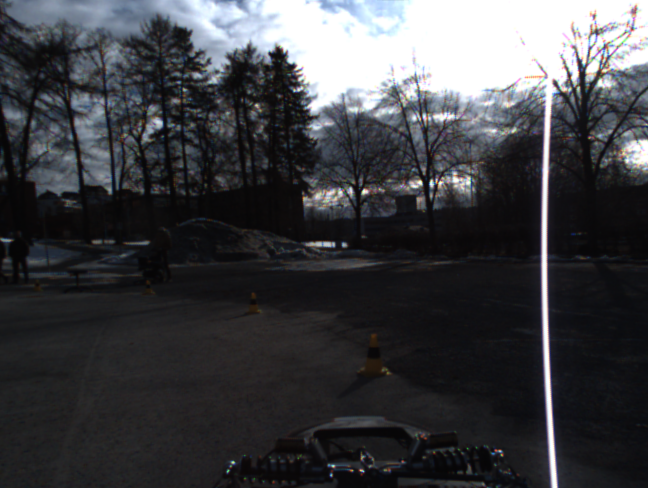cone-small-yellow: (355, 333, 393, 378), (244, 292, 262, 314), (141, 280, 156, 296), (32, 279, 44, 292)
